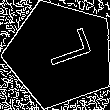L_W: (30, 31, 90, 77)
